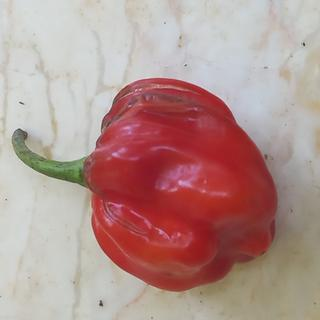striped: (101, 91, 214, 131), (105, 83, 204, 113), (99, 196, 153, 239)
